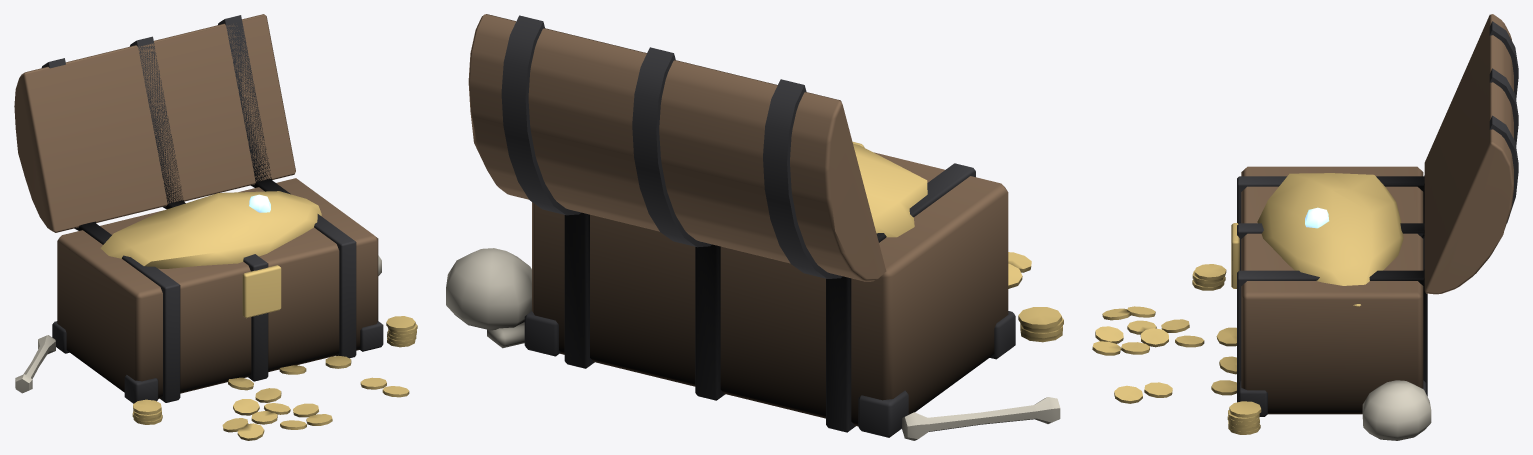
File: place_chest.glb
The picture shows the model from 3 angles, left to right: view 1: azimuth 30°, elevation 25°; view 2: azimuth 150°, elevation 25°; view 3: azimuth 270°, elevation 25°; orthographic projection. The views are drawn at different scales.
Visible parts, largest first — view 1: place_chest; view 2: place_chest; view 3: place_chest.
Boxes of the visible parts, left/top/right/bottom form: place_chest: left=14, top=14, right=417, bottom=440; place_chest: left=446, top=14, right=1063, bottom=440; place_chest: left=1092, top=14, right=1518, bottom=440.
Bounding box in the file's own units: 1.67 × 1.06 × 1.45.
